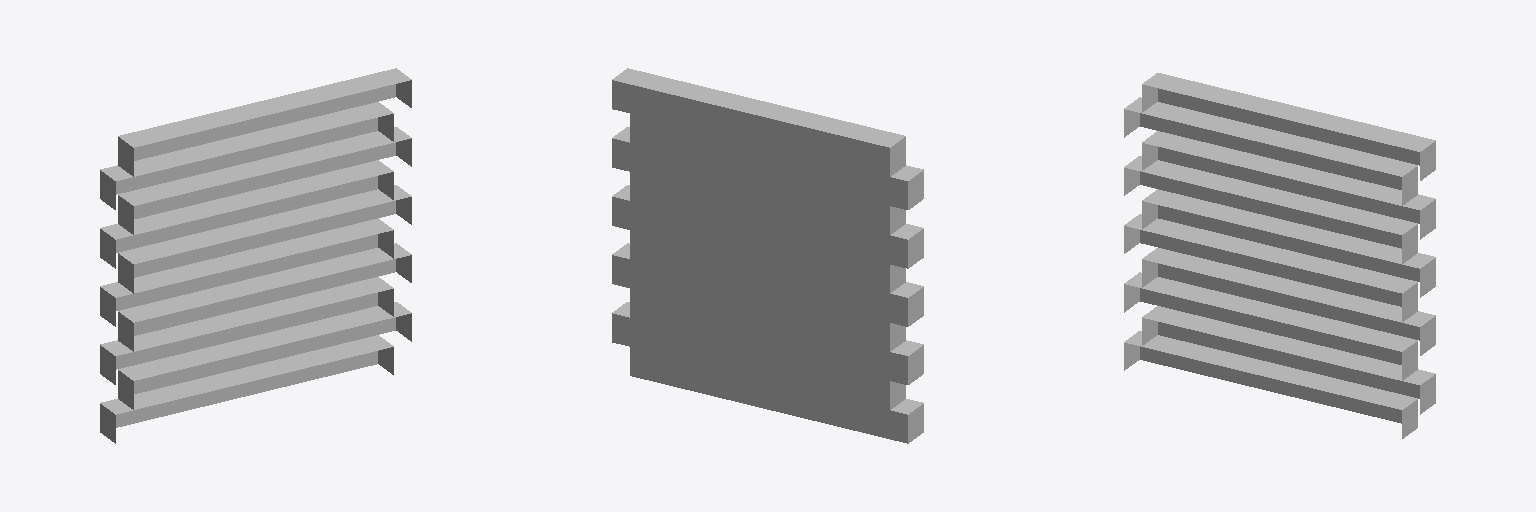
The model's file is Only Wall.obj.
3 views of the same model, side by side, from view 1: azimuth 30°, elevation 25°; view 2: azimuth 150°, elevation 25°; view 3: azimuth 330°, elevation 25° (orthographic).
Parts seen in each view (by area): view 1: Einzelne_Wand.001; view 2: Einzelne_Wand.001; view 3: Einzelne_Wand.001.
Boxes of the visible parts, box(x1,y1,x2,y2) form: Einzelne_Wand.001: box(100, 68, 411, 443); Einzelne_Wand.001: box(612, 68, 923, 443); Einzelne_Wand.001: box(1124, 73, 1435, 438).
Bounding box in the file's own units: 1.6 × 1.5 × 0.15.